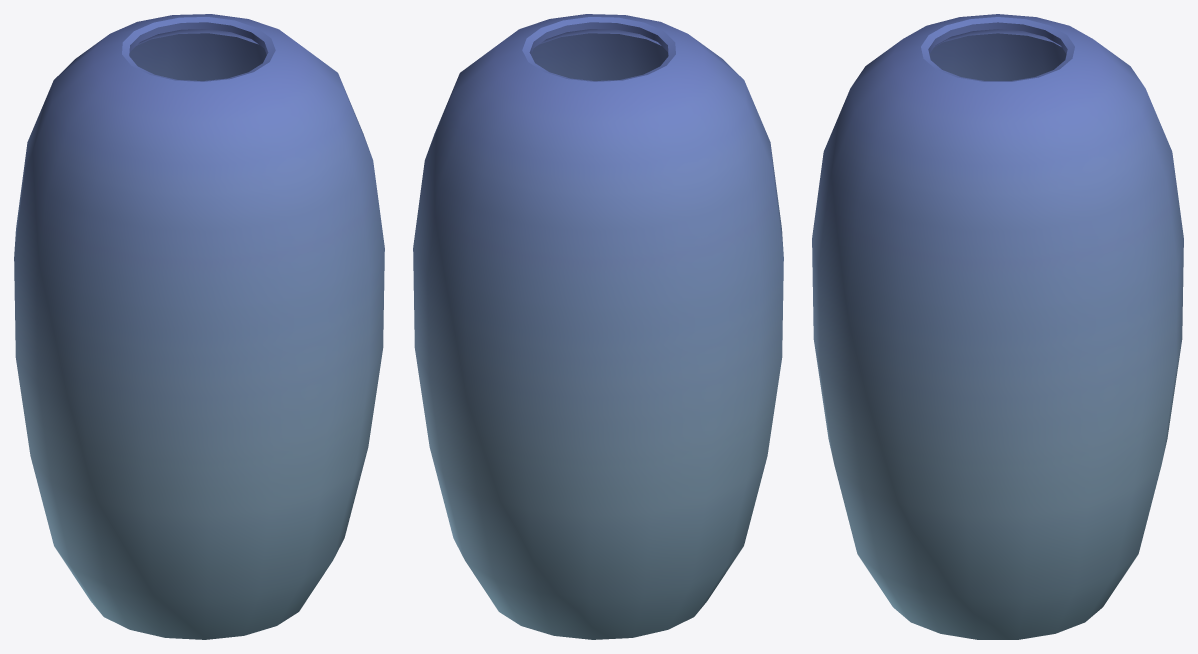
The model's file is Vase_Oval2_Blue.fbx.
3 views of the same model, side by side, from view 1: azimuth 30°, elevation 25°; view 2: azimuth 150°, elevation 25°; view 3: azimuth 270°, elevation 25° (orthographic).
Visible parts, largest first — view 1: Vase_Oval2_Blue; view 2: Vase_Oval2_Blue; view 3: Vase_Oval2_Blue.
Part boxes in pixels (x1,y1,x2,y2): Vase_Oval2_Blue: (14, 14, 384, 639); Vase_Oval2_Blue: (413, 14, 783, 639); Vase_Oval2_Blue: (812, 14, 1183, 639).
Size of the model in its own units: 56.57 by 94.11 by 56.82.
